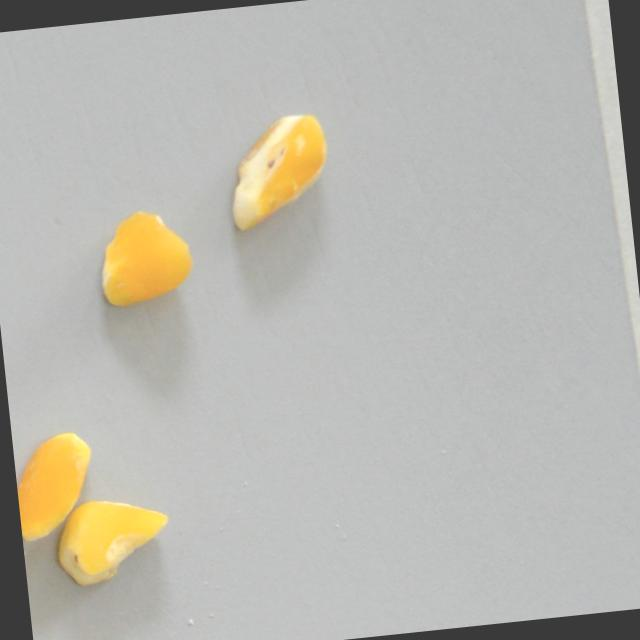estandar: (84, 196, 202, 323), (10, 424, 110, 549)
punto_negro: (216, 104, 346, 236), (50, 490, 175, 594)
